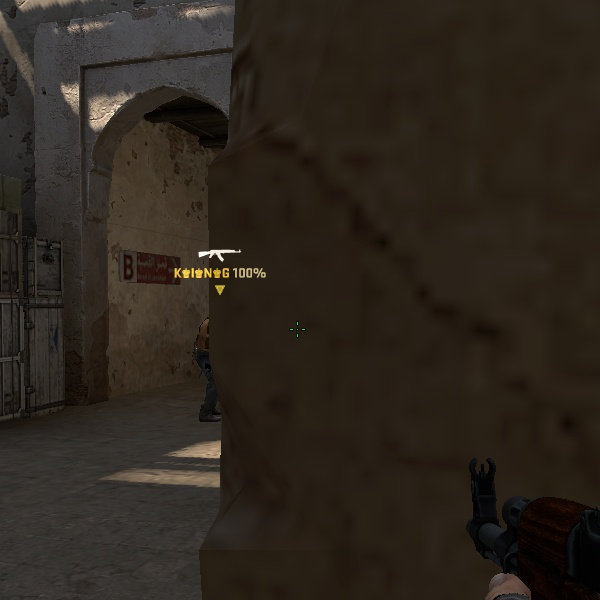t_body: (197, 313, 216, 424)
